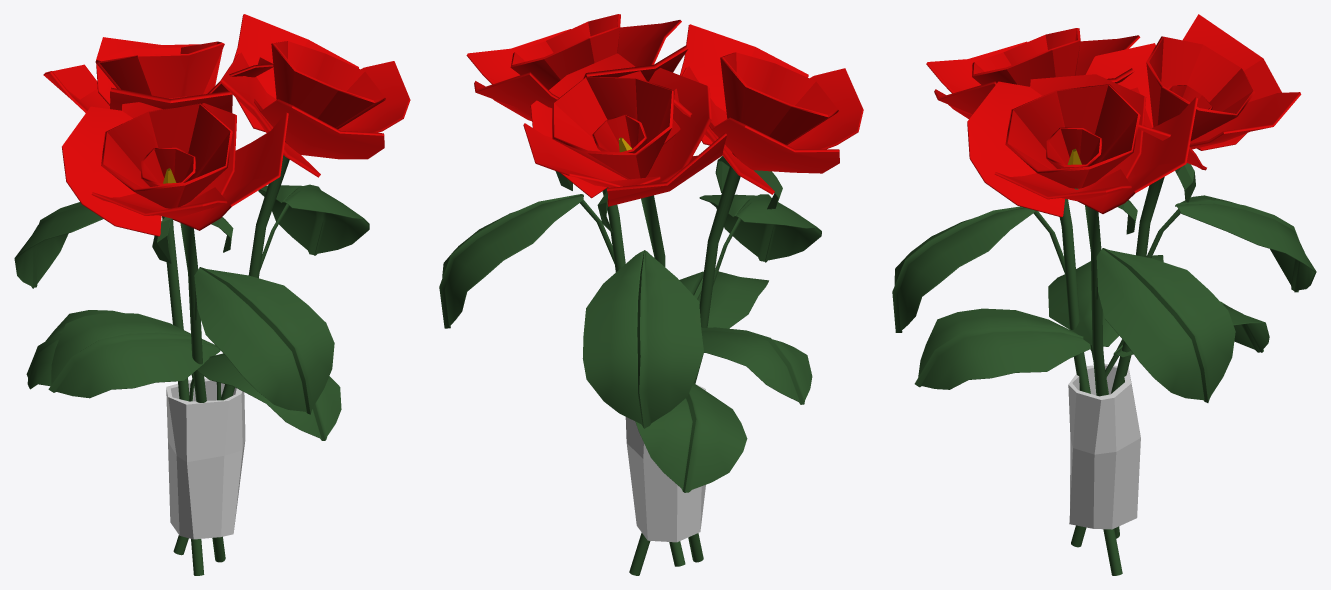
The model's file is Mesh_bouquet_001.fbx.
The picture shows the model from 3 angles, left to right: view 1: azimuth 30°, elevation 25°; view 2: azimuth 150°, elevation 25°; view 3: azimuth 270°, elevation 25°; orthographic projection. The views are drawn at different scales.
Parts seen in each view (by area): view 1: Mesh_rose_001, Mesh_morceau_001; view 2: Mesh_rose_001, Mesh_morceau_001; view 3: Mesh_rose_001, Mesh_morceau_001.
Boxes of the visible parts, <box> form: Mesh_rose_001: <box>14,14,410,575</box>; Mesh_morceau_001: <box>166,378,245,539</box>; Mesh_rose_001: <box>439,14,863,575</box>; Mesh_morceau_001: <box>625,384,705,542</box>; Mesh_rose_001: <box>892,14,1316,575</box>; Mesh_morceau_001: <box>1068,364,1140,529</box>.
Bounding box in the file's own units: 27.26 × 38.26 × 28.55.
